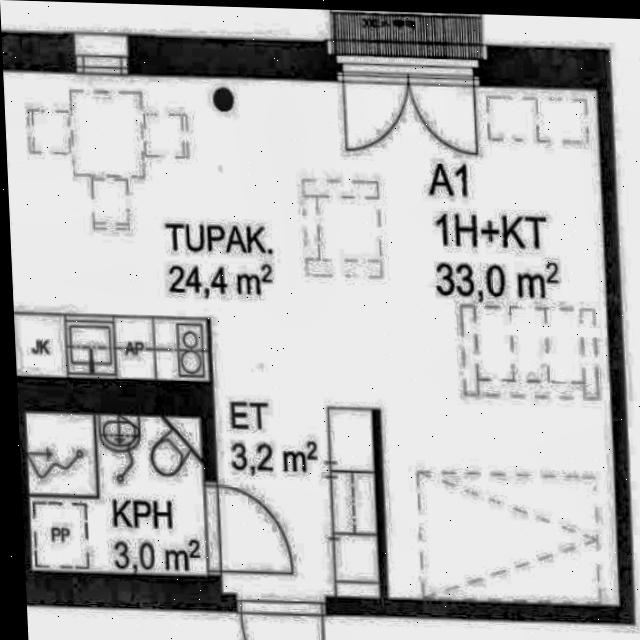room: (21, 413, 213, 577)
